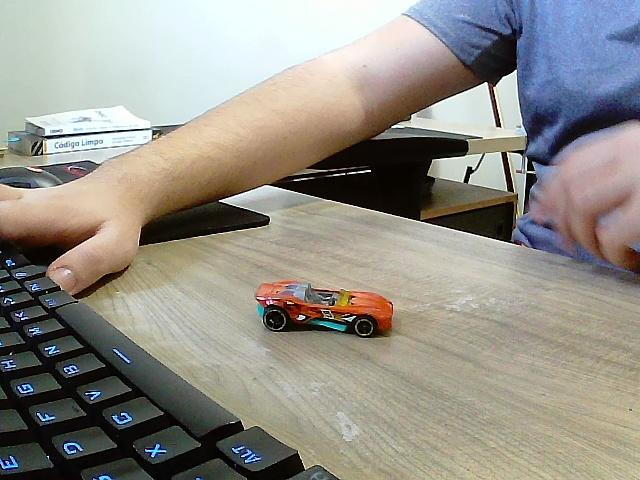Carro: (256, 281, 396, 339)
